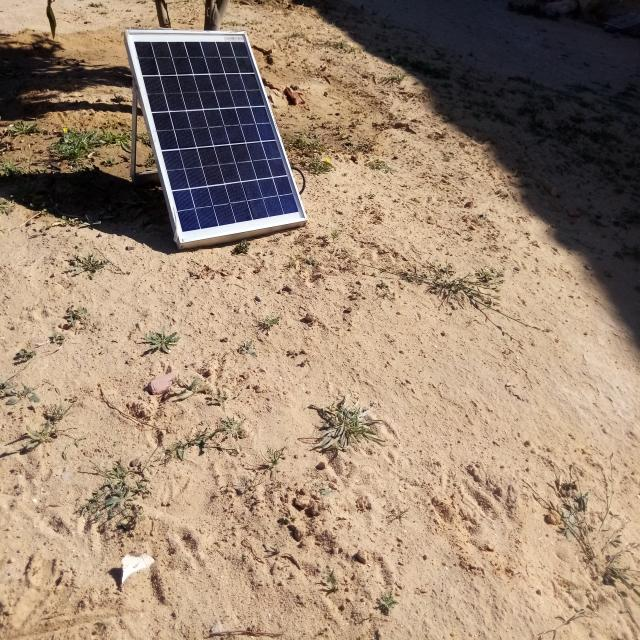no faulty: (125, 32, 307, 244)
